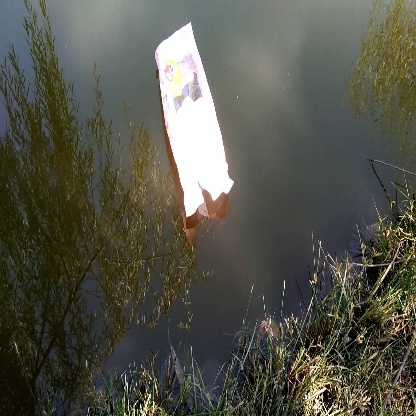plastic-bag: (150, 18, 241, 219)
